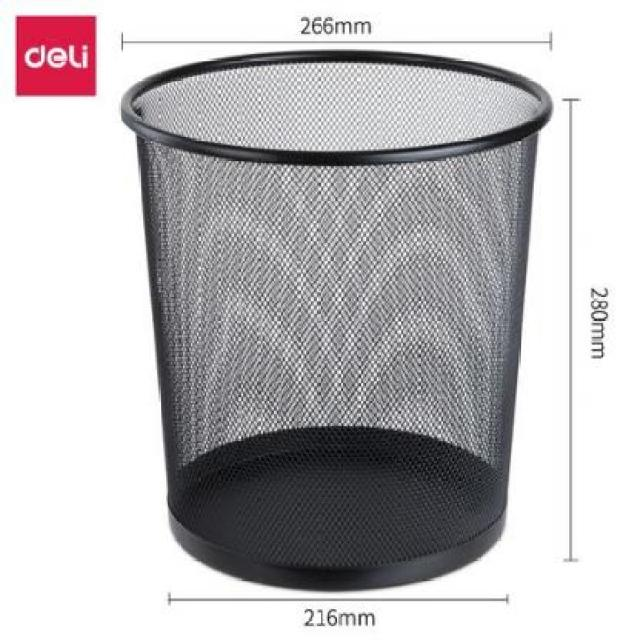dustbin: (117, 46, 556, 595)
